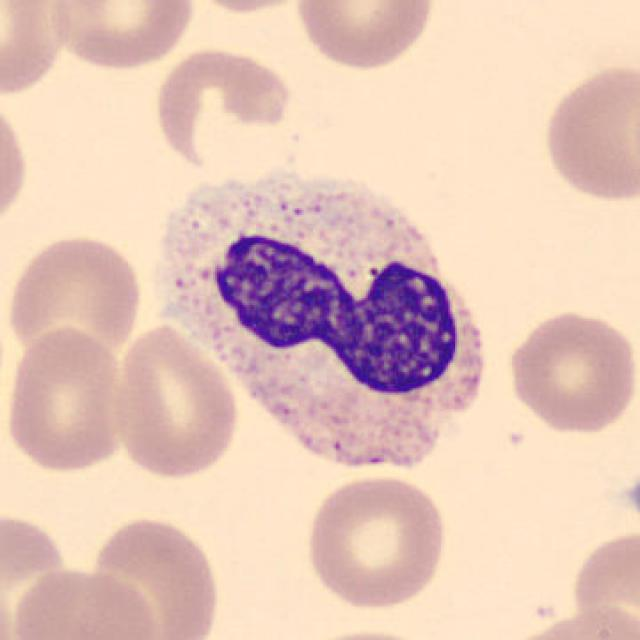Neutrophil: (159, 174, 505, 474)
RBC: (300, 469, 452, 612), (109, 321, 244, 481), (151, 42, 301, 180), (0, 322, 133, 476), (4, 229, 146, 363), (84, 512, 225, 638), (503, 307, 638, 435), (539, 58, 638, 206), (7, 562, 162, 640), (44, 0, 199, 72), (291, 0, 439, 72), (0, 506, 76, 640), (565, 526, 640, 638), (0, 0, 71, 100), (499, 604, 638, 640), (0, 94, 32, 236), (178, 0, 320, 16), (292, 626, 444, 640)
